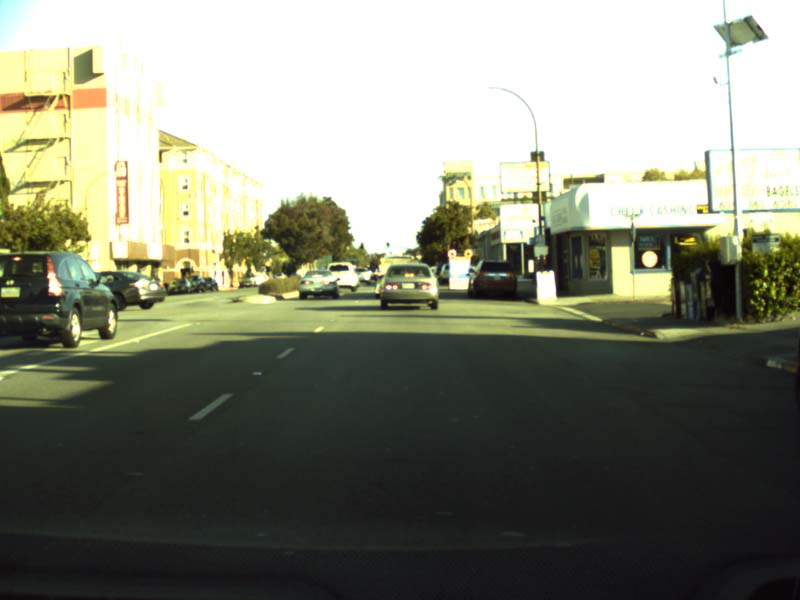Green: (386, 242, 388, 247)
